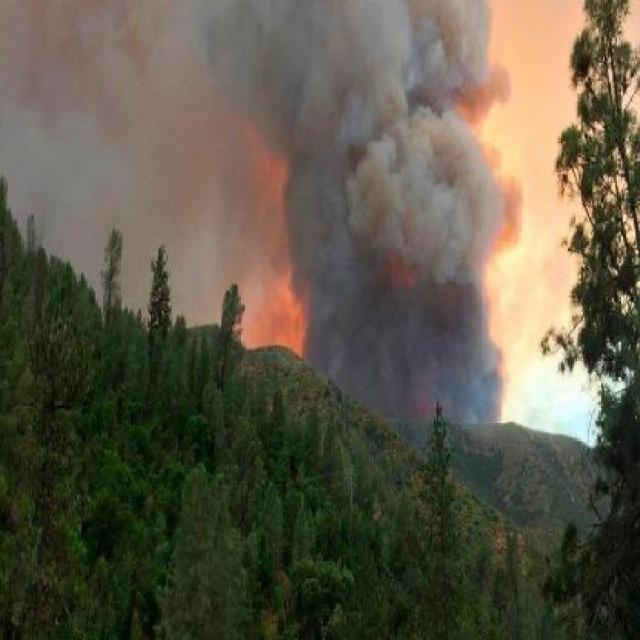Fire: (224, 244, 311, 354)
Smoke: (284, 84, 528, 378), (18, 11, 276, 210)
